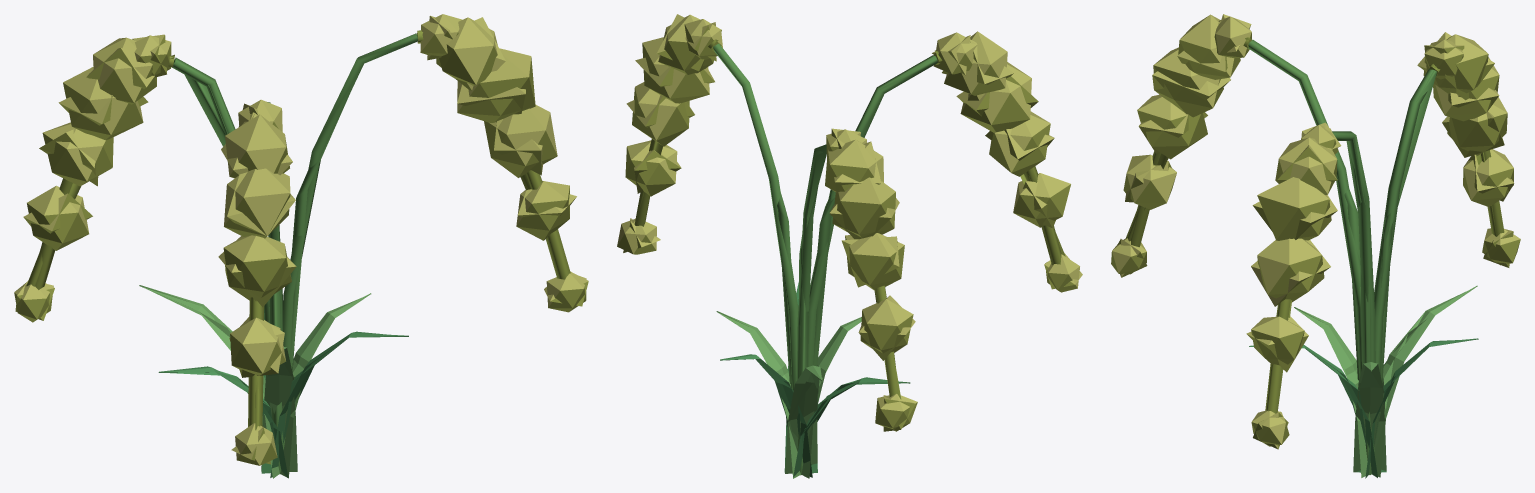
The model's file is foxtail_a.glb.
3 renders of one model, left to right at view 1: azimuth 30°, elevation 25°; view 2: azimuth 150°, elevation 25°; view 3: azimuth 270°, elevation 25°, orthographic. The views are drawn at different scales.
Visible parts, largest first — view 1: petal_foxtail_nl, body__far, stem, leaf_nl; view 2: petal_foxtail_nl, body__far, stem, leaf_nl; view 3: petal_foxtail_nl, body__far, stem, leaf_nl.
Part boxes in pixels (left/top/right/bottom): petal_foxtail_nl: left=14, top=14, right=586, bottom=465; body__far: left=15, top=15, right=588, bottom=474; stem: left=35, top=30, right=570, bottom=449; leaf_nl: left=139, top=285, right=408, bottom=478; petal_foxtail_nl: left=617, top=14, right=1079, bottom=431; body__far: left=623, top=14, right=1082, bottom=475; stem: left=634, top=40, right=1061, bottom=450; leaf_nl: left=716, top=283, right=910, bottom=478; petal_foxtail_nl: left=1111, top=14, right=1520, bottom=446; body__far: left=1117, top=14, right=1514, bottom=474; stem: left=1130, top=37, right=1504, bottom=474; leaf_nl: left=1249, top=285, right=1478, bottom=478.
Bounding box in the file's own units: 8.48 × 8.19 × 7.35.
